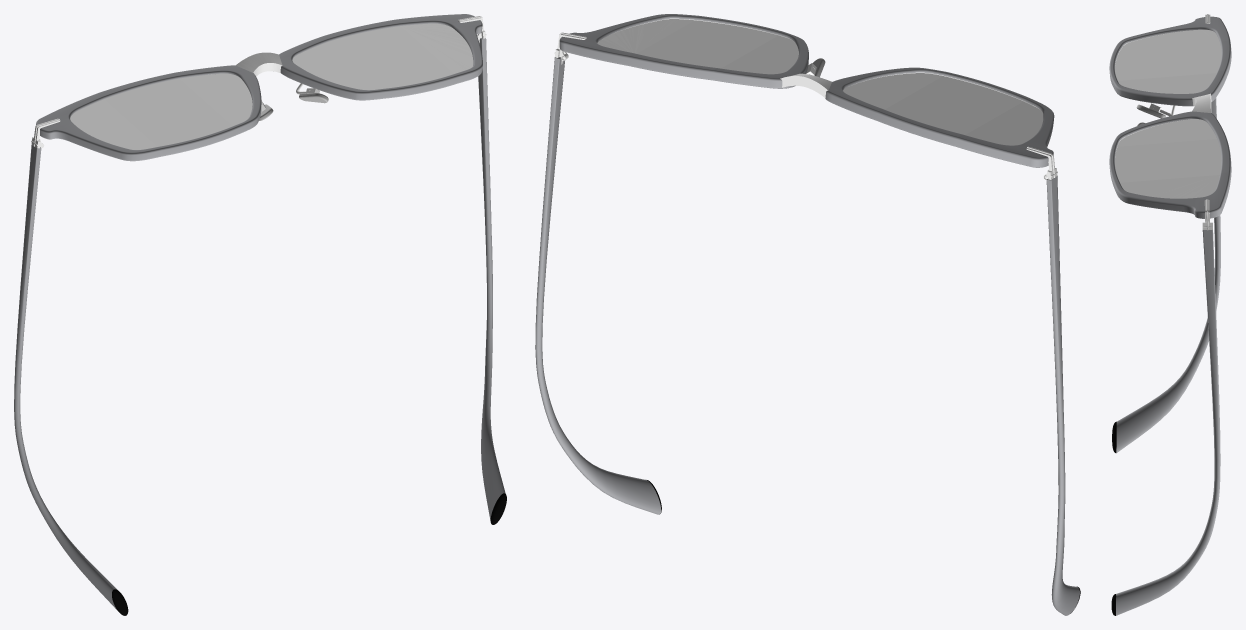
Rendered from clubmaster-white.glb.
The picture shows the model from 3 angles, left to right: view 1: azimuth 30°, elevation 25°; view 2: azimuth 150°, elevation 25°; view 3: azimuth 270°, elevation 25°; orthographic projection. The views are drawn at different scales.
Visible parts, largest first — view 1: imagetostl_mesh8, imagetostl_mesh14, imagetostl_mesh0, imagetostl_mesh5; view 2: imagetostl_mesh8, imagetostl_mesh14, imagetostl_mesh0; view 3: imagetostl_mesh8, imagetostl_mesh14, imagetostl_mesh0, imagetostl_mesh5.
Part boxes in pixels (<box>): imagetostl_mesh8: <box>14,14,505,610</box>; imagetostl_mesh14: <box>70,23,473,149</box>; imagetostl_mesh0: <box>31,16,486,148</box>; imagetostl_mesh5: <box>112,92,506,615</box>; imagetostl_mesh8: <box>535,14,1079,615</box>; imagetostl_mesh14: <box>597,19,1043,145</box>; imagetostl_mesh0: <box>554,18,1057,179</box>; imagetostl_mesh8: <box>1109,16,1231,615</box>; imagetostl_mesh14: <box>1115,29,1221,198</box>; imagetostl_mesh0: <box>1115,14,1212,230</box>; imagetostl_mesh5: <box>1111,104,1165,615</box>.
Bounding box in the file's own units: 2.24 × 2.15 × 0.5442.
Materials: 4 (4 with a texture image).
